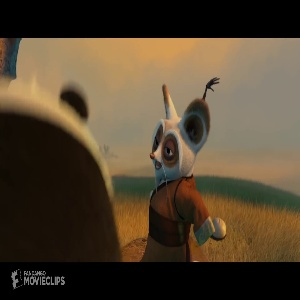po: (1, 80, 125, 263)
shifu: (140, 74, 228, 262)
